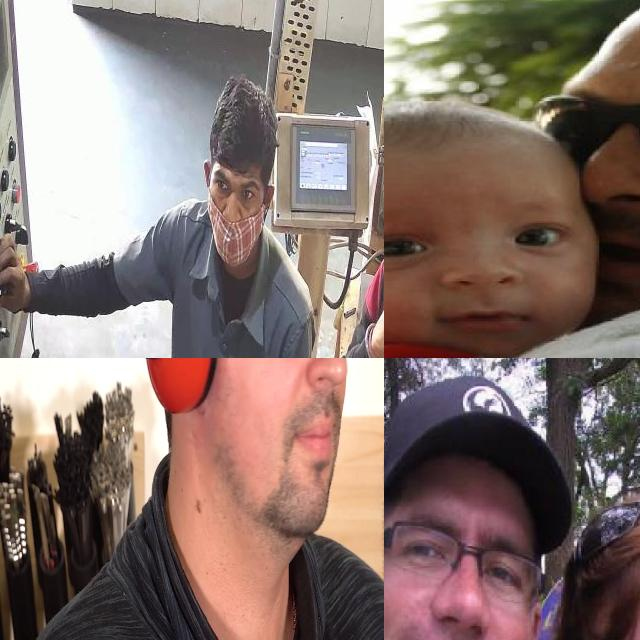Ear-protection: (130, 358, 347, 544)
No_Glasses: (384, 189, 584, 281), (210, 168, 261, 211)
face_mask: (203, 164, 271, 266)
face_nomask: (527, 86, 640, 288), (384, 214, 565, 336), (384, 522, 533, 640)
glasses: (384, 513, 544, 609), (518, 80, 640, 176), (576, 493, 640, 568)
hand_noglove: (0, 234, 36, 312), (372, 264, 384, 346)
head_nohelmet: (384, 374, 558, 513), (384, 93, 553, 170), (565, 487, 640, 601), (198, 76, 286, 163)
person: (160, 76, 318, 358)
